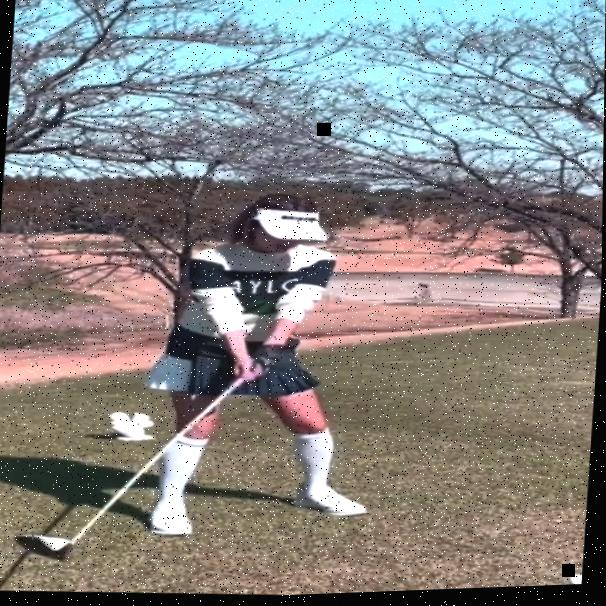ClubHead: (10, 528, 75, 568)
GolfBall: (568, 577, 584, 589)
